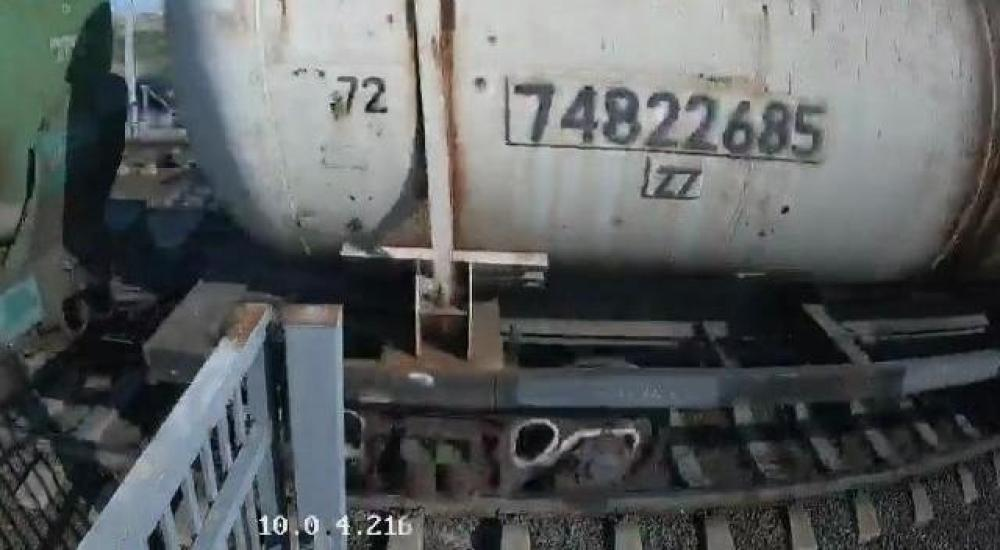Wagon-number: (510, 81, 829, 162)
